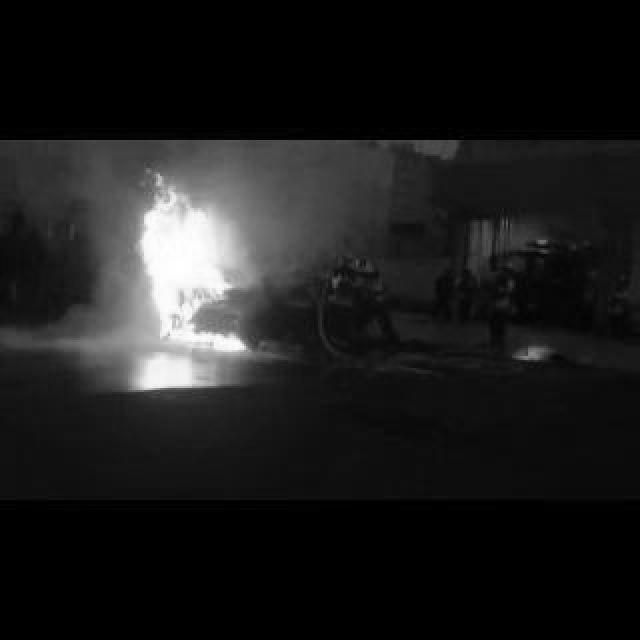Fire: (140, 168, 256, 352)
